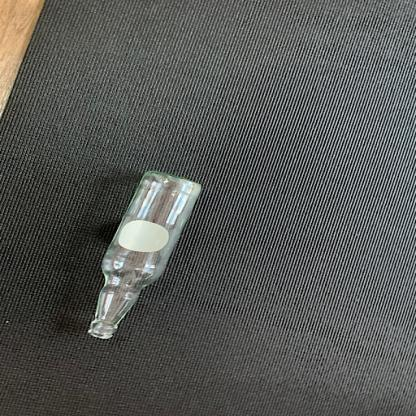trash: (88, 168, 210, 344)
